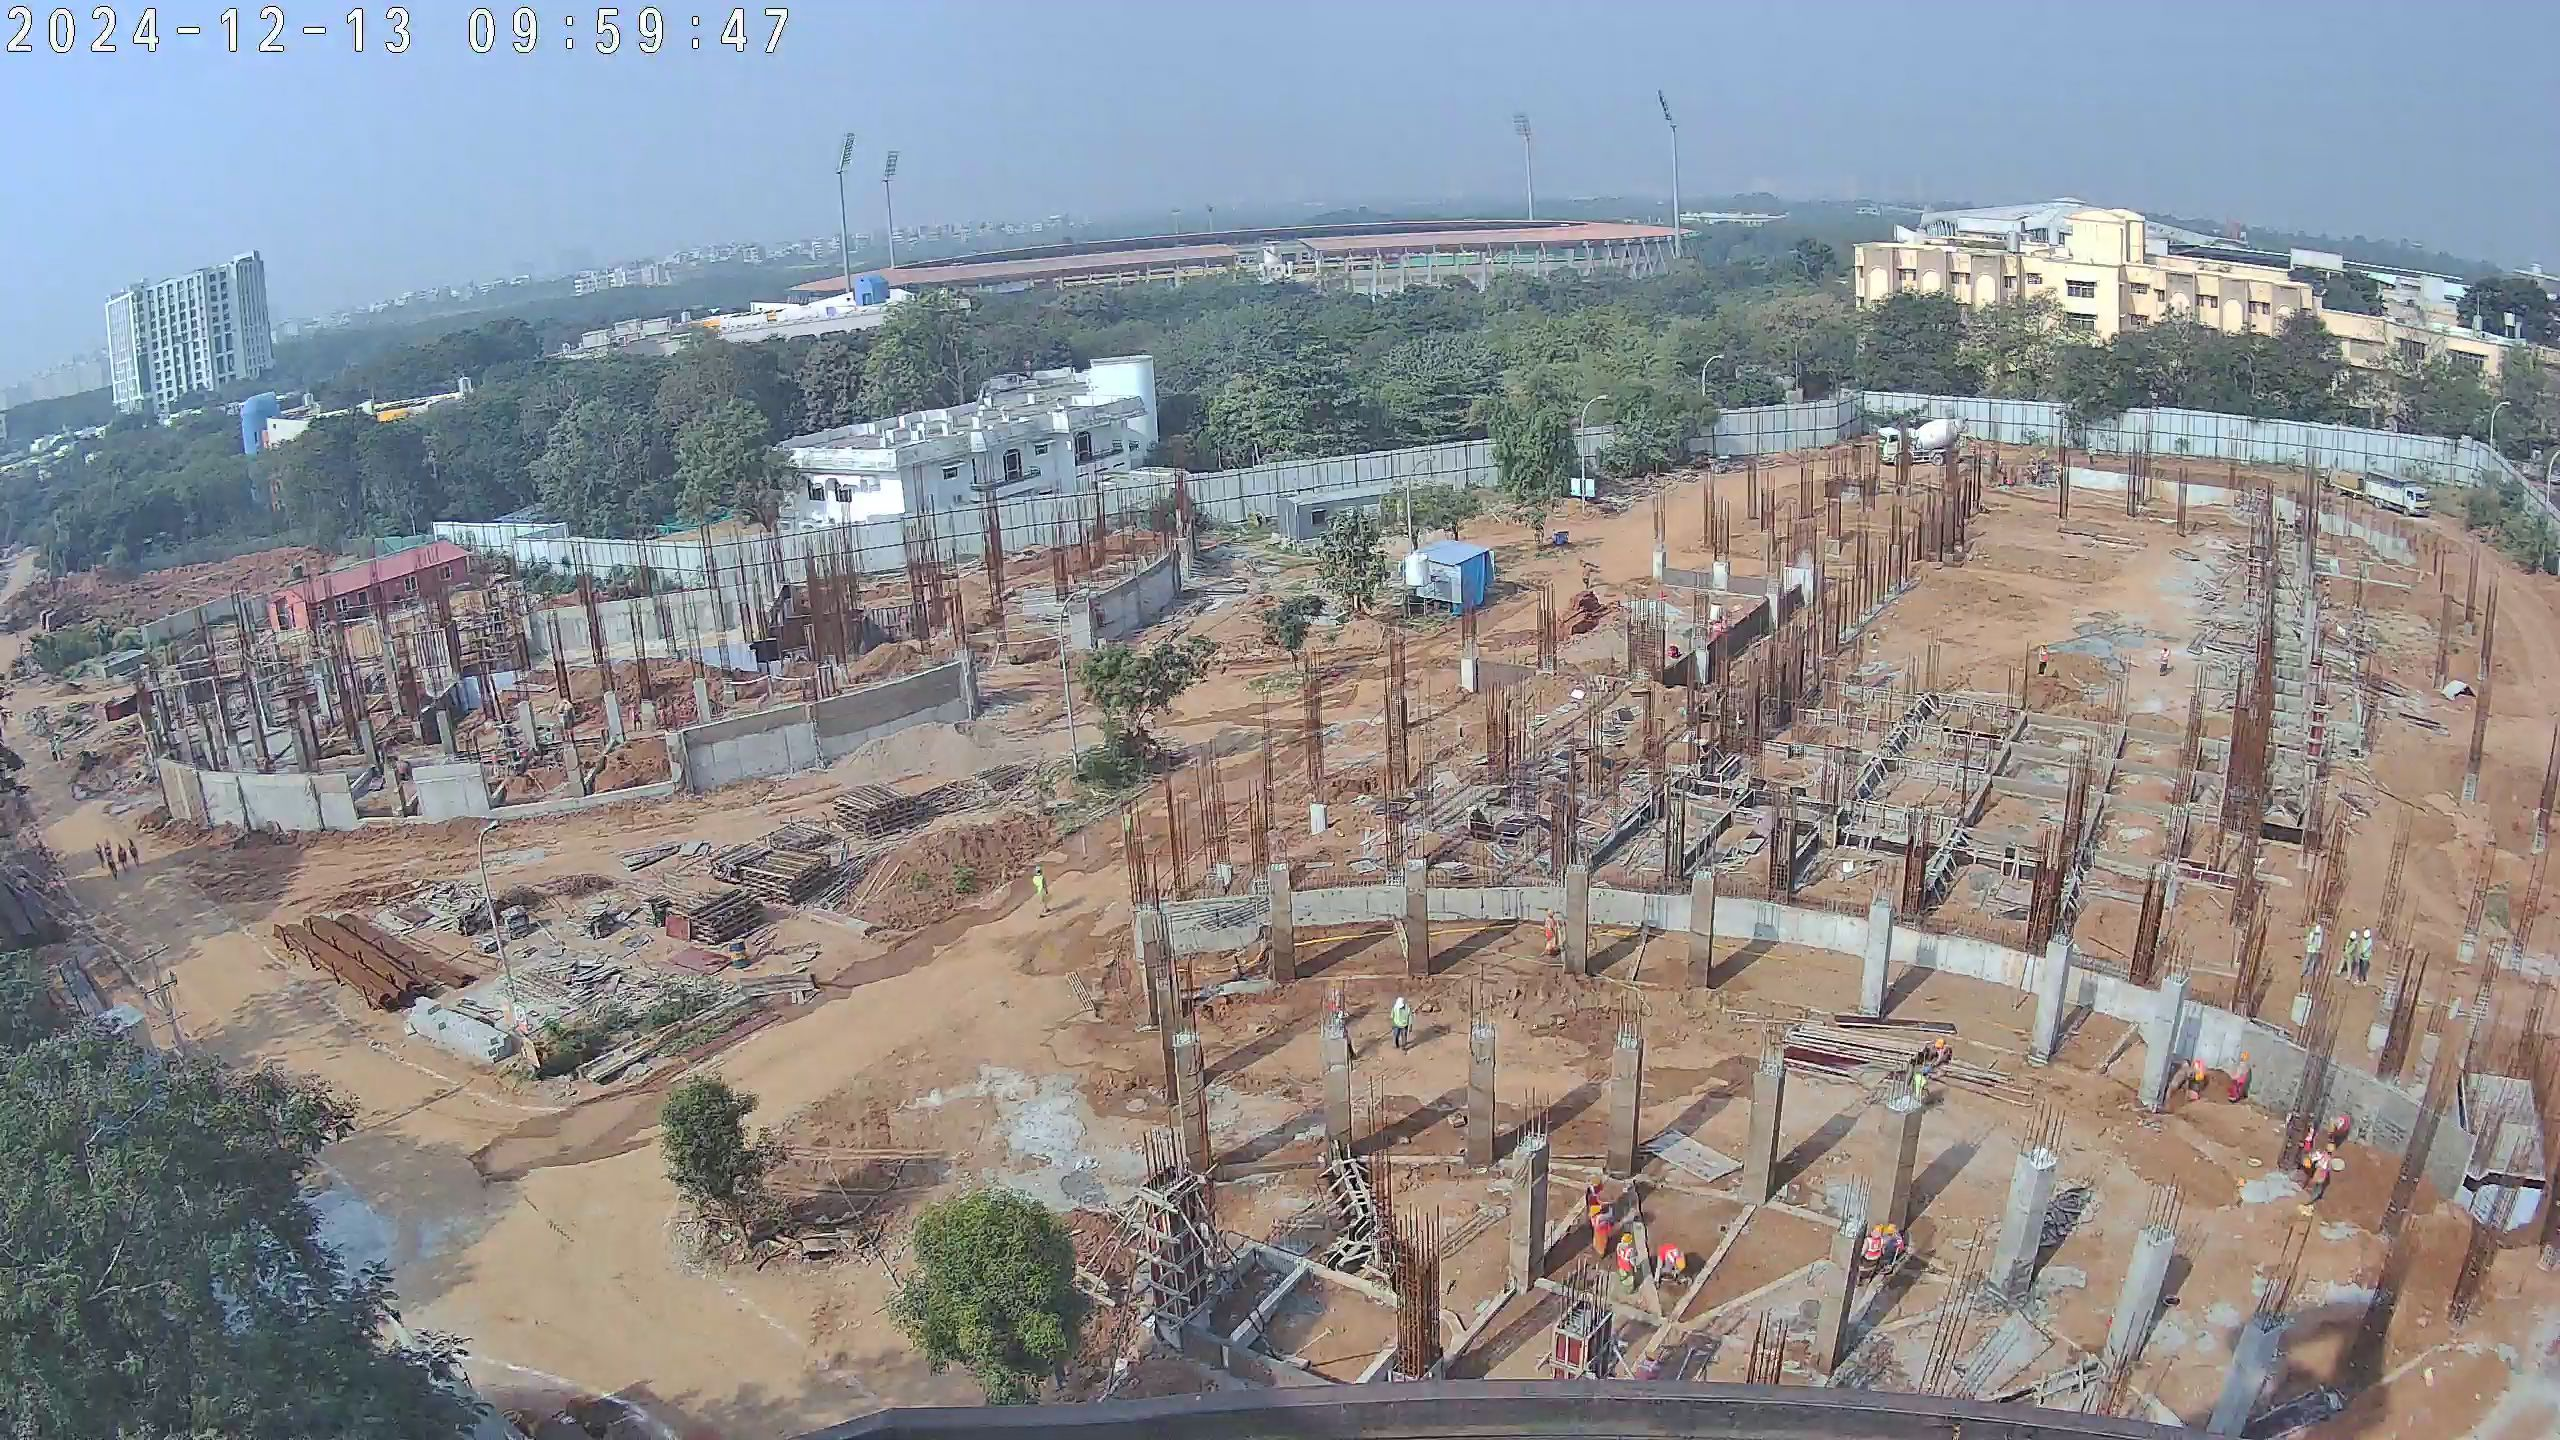truck: (2322, 458, 2435, 522), (1872, 416, 1970, 474)
worker: (2295, 1136, 2338, 1206), (1383, 997, 1422, 1064), (1025, 860, 1060, 925), (1590, 1197, 1617, 1277), (1649, 1247, 1693, 1291), (1855, 1223, 1886, 1285), (2302, 916, 2330, 981), (2226, 1044, 2254, 1107), (1921, 1032, 1961, 1076), (1876, 1221, 1907, 1275), (1904, 1066, 1937, 1116), (1613, 1232, 1638, 1291), (1535, 904, 1556, 972), (1581, 1172, 1605, 1230), (2336, 927, 2360, 984), (2356, 928, 2377, 990), (2154, 638, 2175, 682), (2036, 637, 2051, 678), (628, 701, 647, 732), (105, 852, 123, 884), (101, 837, 114, 871), (94, 841, 108, 871), (659, 704, 674, 731), (116, 845, 130, 873), (129, 843, 142, 871), (54, 736, 66, 761), (47, 736, 58, 763), (124, 838, 137, 858)
